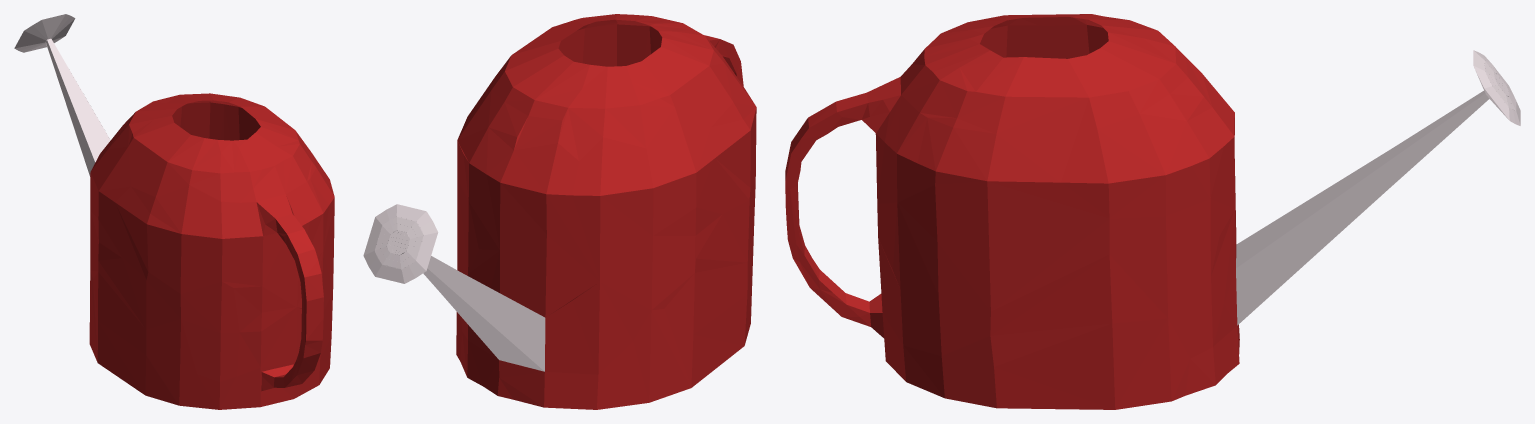
File: watering_can.glb
The picture shows the model from 3 angles, left to right: view 1: azimuth 30°, elevation 25°; view 2: azimuth 150°, elevation 25°; view 3: azimuth 270°, elevation 25°; orthographic projection. The views are drawn at different scales.
Parts seen in each view (by area): view 1: Cylinder.001; view 2: Cylinder.001; view 3: Cylinder.001.
Boxes of the visible parts, x1,y1,x2,y2 form: Cylinder.001: (14, 14, 334, 409); Cylinder.001: (363, 14, 756, 409); Cylinder.001: (785, 14, 1520, 409).
Size of the model in its own units: 0.3822 by 0.4697 by 0.9901.
